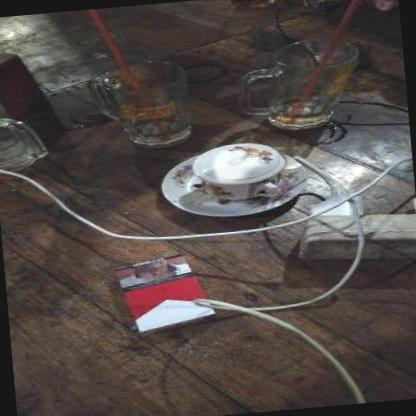objects: (116, 253, 218, 338)
